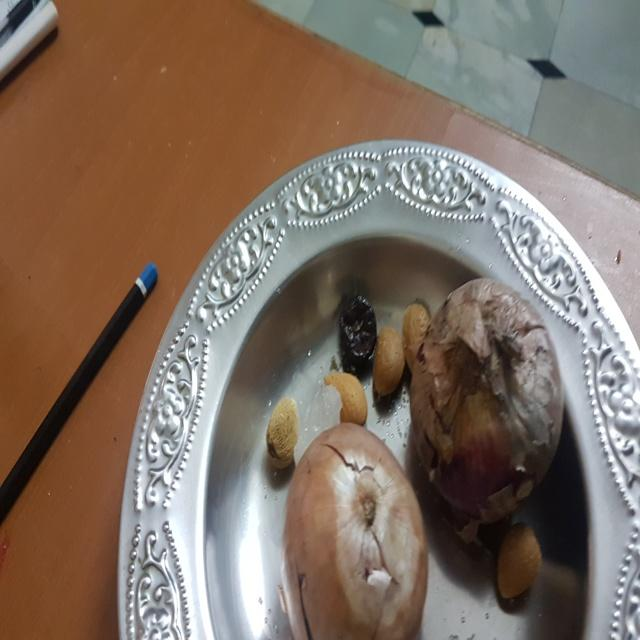onion: (397, 274, 578, 503), (274, 422, 428, 639)
